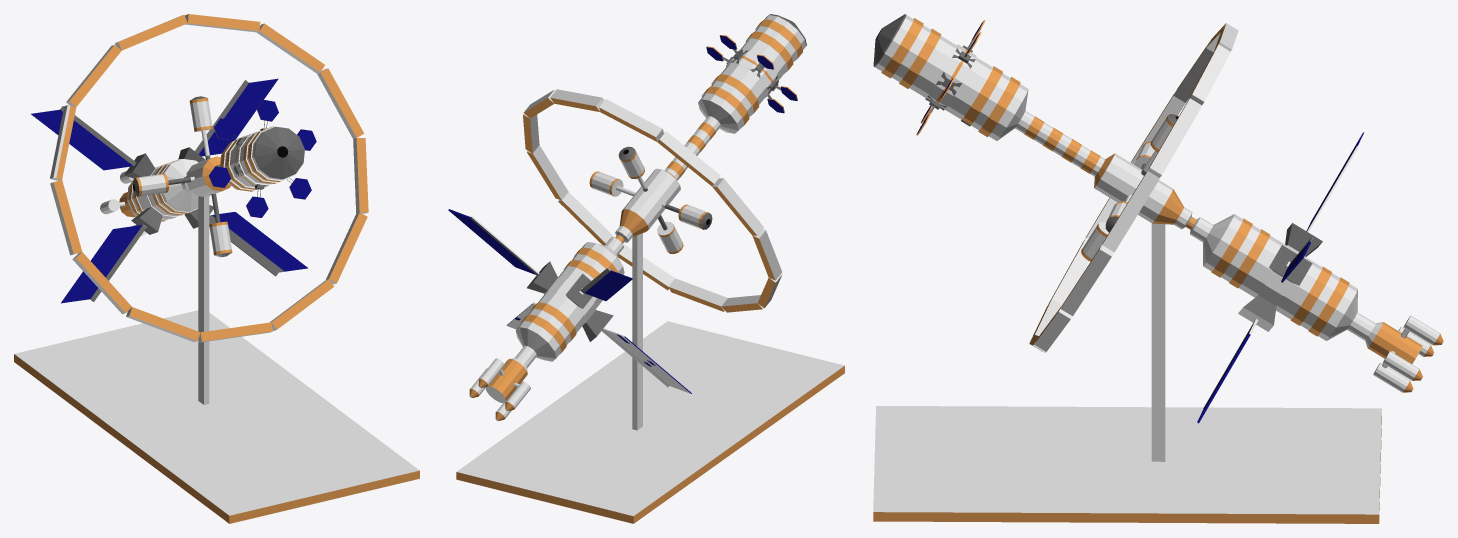
Rendered from spacestation_element.fbx.
3 views of the same model, side by side, from view 1: azimuth 30°, elevation 25°; view 2: azimuth 150°, elevation 25°; view 3: azimuth 270°, elevation 25° (orthographic). The views are drawn at different scales.
Parts seen in each view (by area): view 1: Cube; view 2: Cube; view 3: Cube.
Part boxes in pixels (x1=…): Cube: x1=14, y1=14, x2=419, y2=523; Cube: x1=448, y1=14, x2=844, y2=523; Cube: x1=873, y1=14, x2=1443, y2=523.
Bounding box in the file's own units: 1039 × 1323 × 1585.
